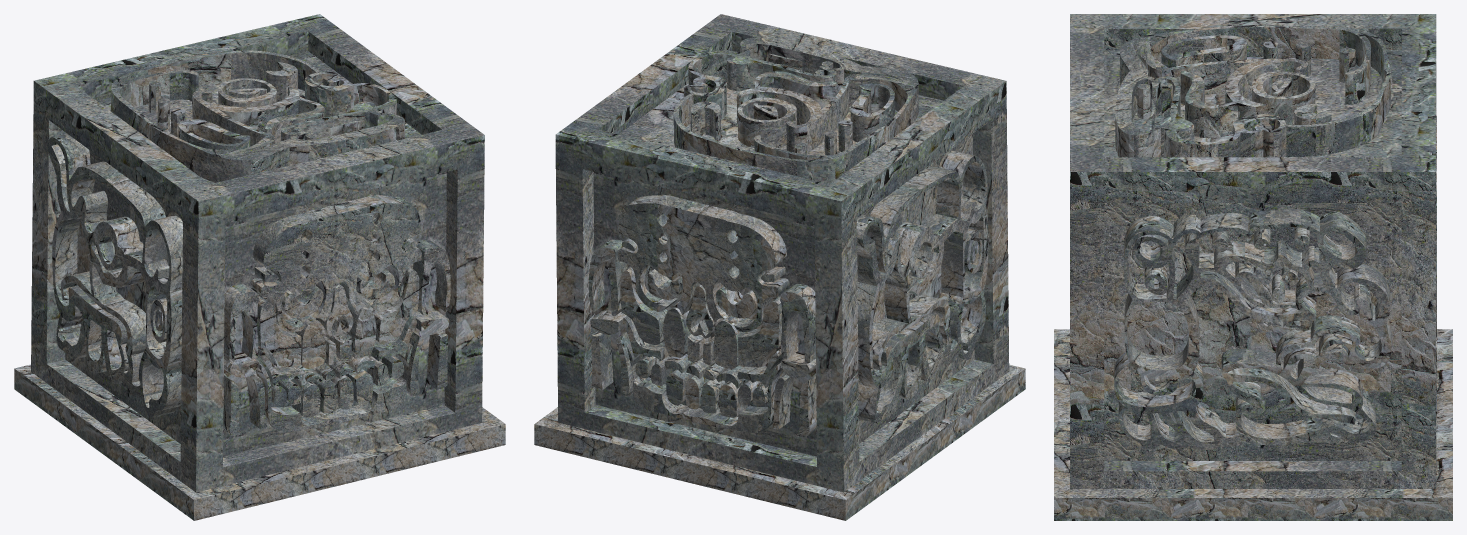
Rendered from stone_aztec.fbx.
3 views of the same model, side by side, from view 1: azimuth 30°, elevation 25°; view 2: azimuth 150°, elevation 25°; view 3: azimuth 270°, elevation 25° (orthographic). The views are drawn at different scales.
Parts seen in each view (by area): view 1: cube; view 2: cube; view 3: cube.
Boxes of the visible parts, x1,y1,x2,y2 form: cube: (14, 14, 505, 520); cube: (534, 14, 1025, 520); cube: (1054, 14, 1452, 520).
Size of the model in its own units: 23.54 by 22.98 by 23.54.
2 materials, 2 textured.
